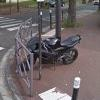Motorcycle: (19, 29, 82, 79)
